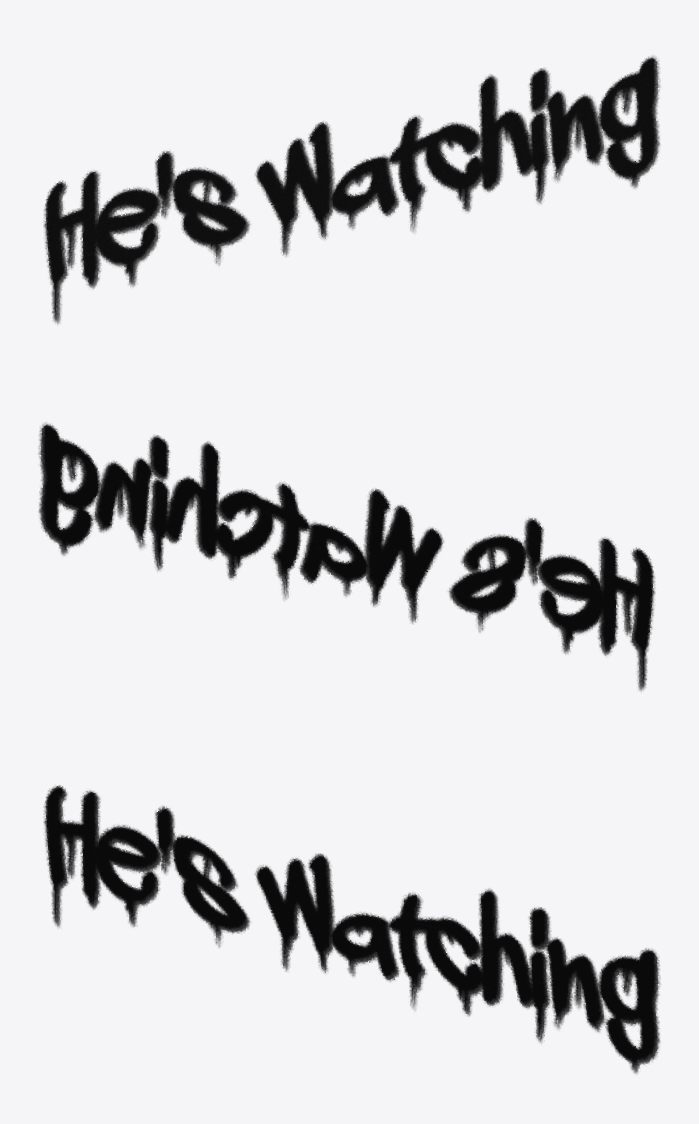
Rendered from graffiti_mx_4.glb.
3 renders of one model, top to bottom at view 1: azimuth 30°, elevation 25°; view 2: azimuth 150°, elevation 25°; view 3: azimuth 330°, elevation 25°, orthographic.
Parts seen in each view (by area): view 1: graffiti_mx_4; view 2: graffiti_mx_4; view 3: graffiti_mx_4.
Part boxes in pixels (x1,y1,x2,y2): graffiti_mx_4: (43, 56, 660, 324); graffiti_mx_4: (38, 423, 655, 691); graffiti_mx_4: (43, 785, 660, 1073).
Size of the model in its own units: 3.75 by 1.06 by 4.11e-08.
1 material, 1 textured.
